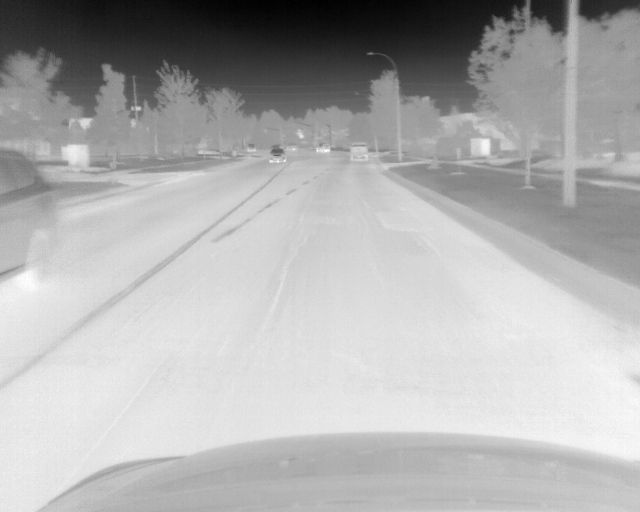car: (1, 148, 60, 289), (349, 142, 369, 163), (267, 148, 287, 163), (314, 142, 332, 154), (244, 142, 256, 154), (286, 141, 298, 152)
